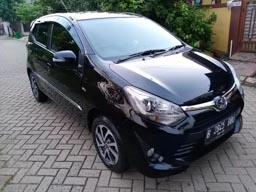plat: (207, 114, 234, 145)
